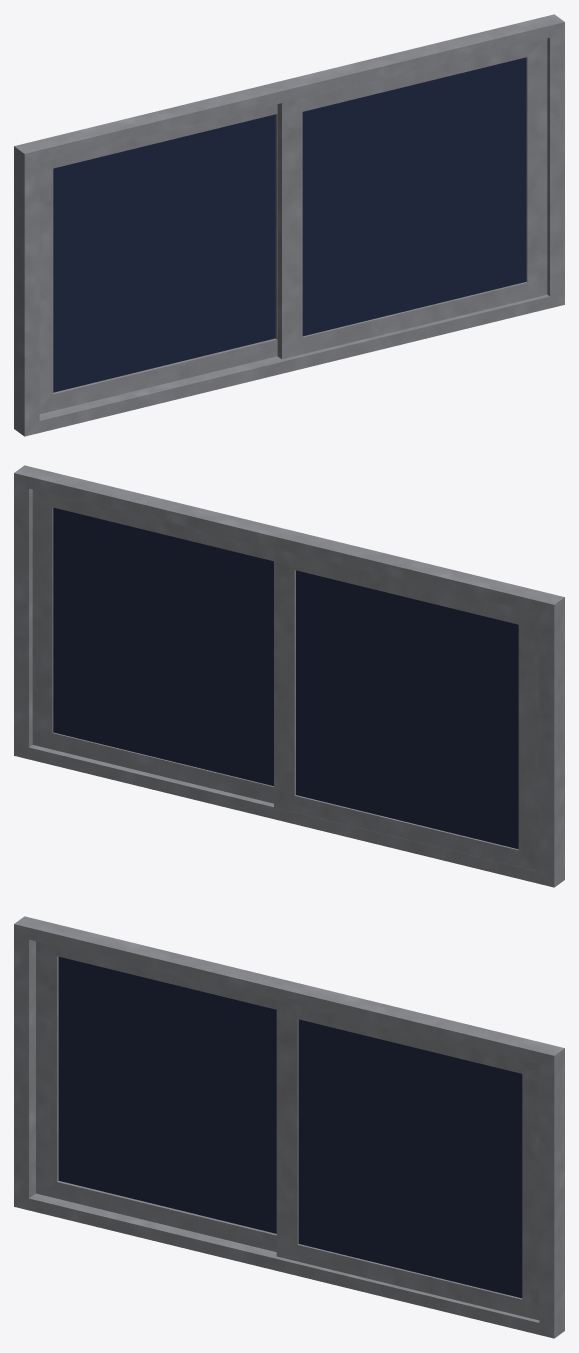
The model's file is sb_obj_ModernCity033_window_b4.fbx.
3 views of the same model, one above another, from view 1: azimuth 30°, elevation 25°; view 2: azimuth 150°, elevation 25°; view 3: azimuth 330°, elevation 25° (orthographic).
Visible parts, largest first — view 1: sb_obj_ModernCity033_window_b4; view 2: sb_obj_ModernCity033_window_b4; view 3: sb_obj_ModernCity033_window_b4.
Boxes of the visible parts, box(x1,y1,x2,y2) form: sb_obj_ModernCity033_window_b4: box(14, 14, 564, 436); sb_obj_ModernCity033_window_b4: box(14, 465, 564, 887); sb_obj_ModernCity033_window_b4: box(14, 916, 564, 1338).
Size of the model in its own units: 2 by 0.9997 by 0.0677.
